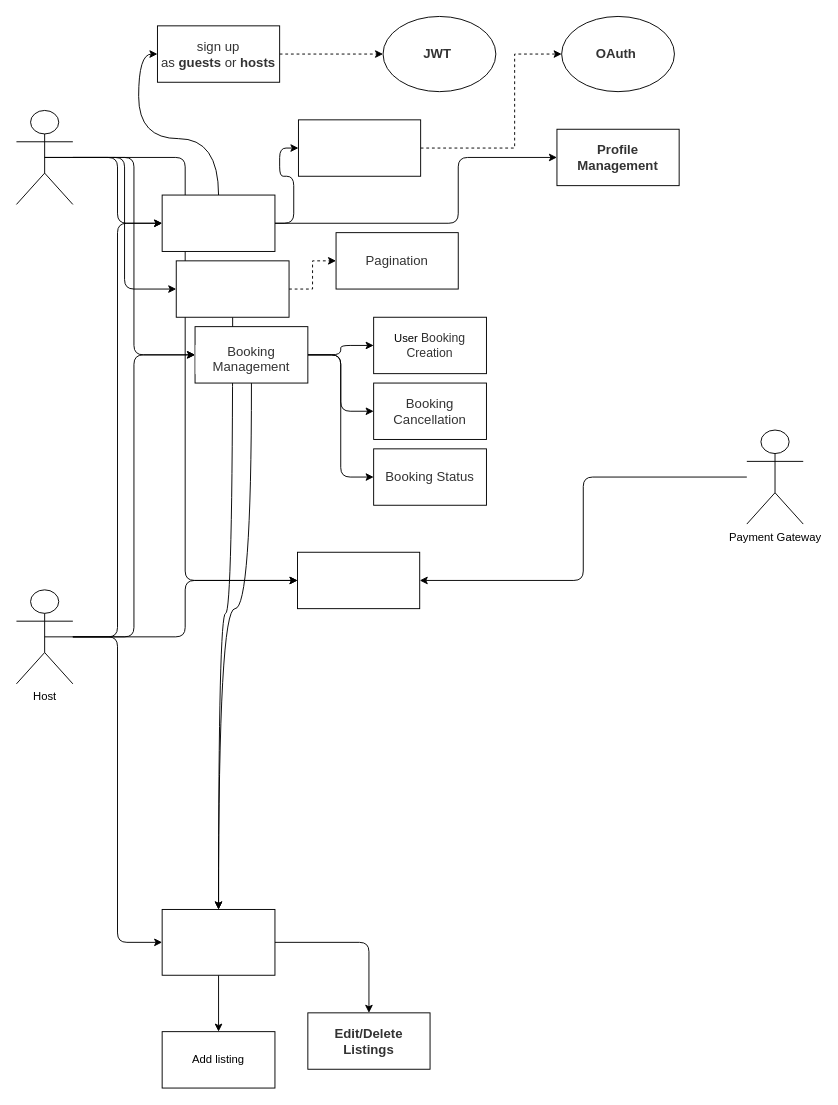
Image size: 838x1105. Some labels were removed from this diagram. Here are the shapes that lost their labels. From the top down, the centre of each, then its label:
[44,157]: User
[359,147]: Login as guests or hosts
[218,222]: User management
[232,288]: Search filtering
[358,580]: Payment Integration
[218,942]: Property list management
